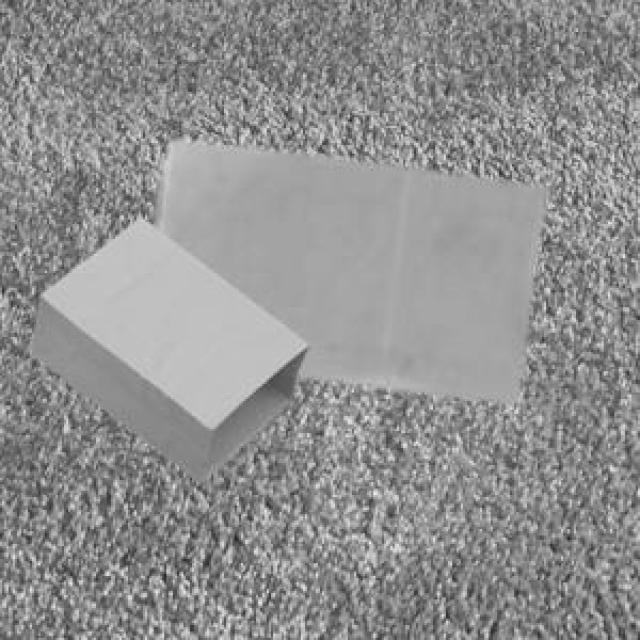paper: (152, 137, 542, 399), (28, 213, 305, 478)
